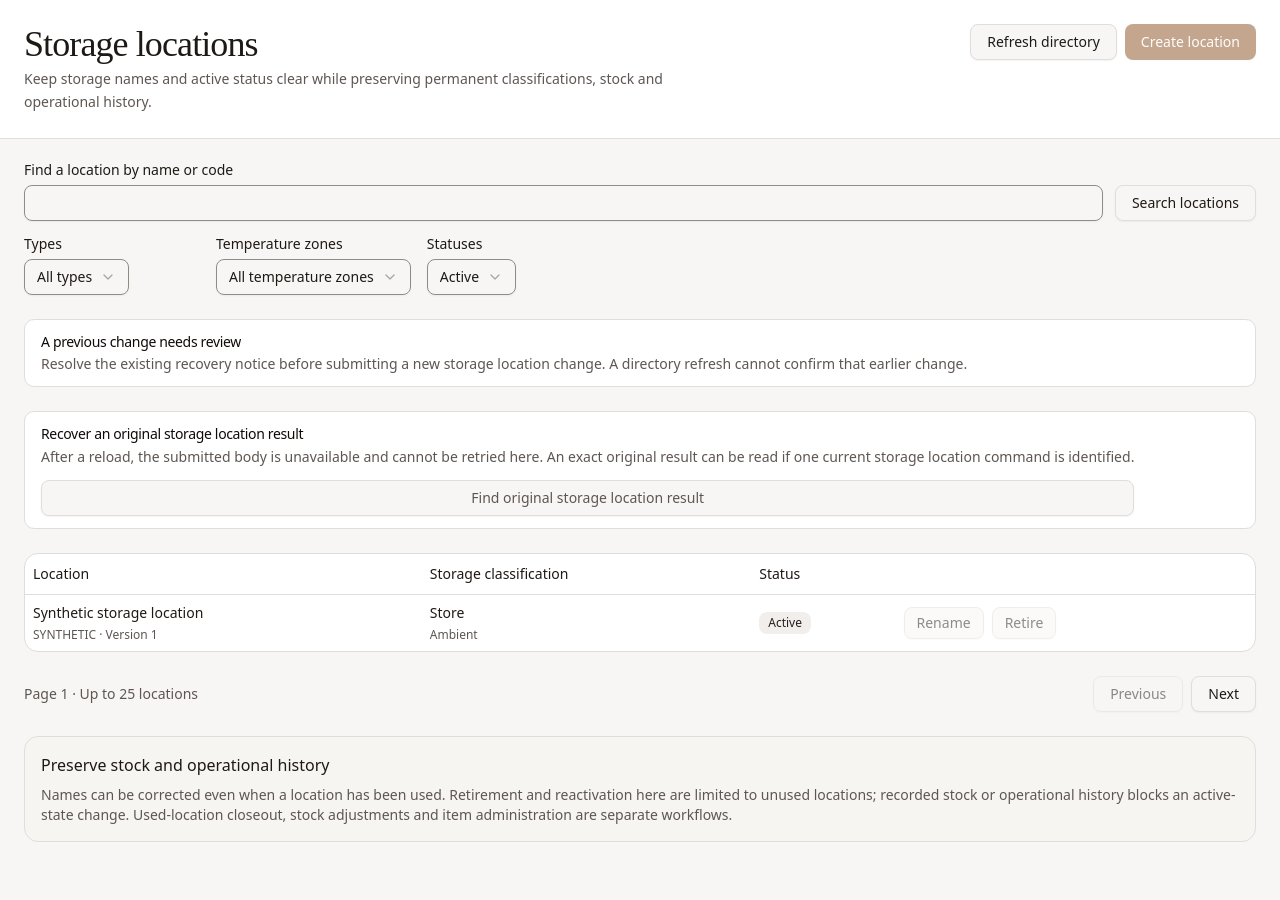
Test case: searches a bounded page and hashes the free-text query key instead of retaining raw search in cache metadata
Expected: the text "Synthetic storage location" is shown, [33,603,203,622]
Step 1. Click the button "Next" → click(1224, 694), box [1191,676,1256,712]
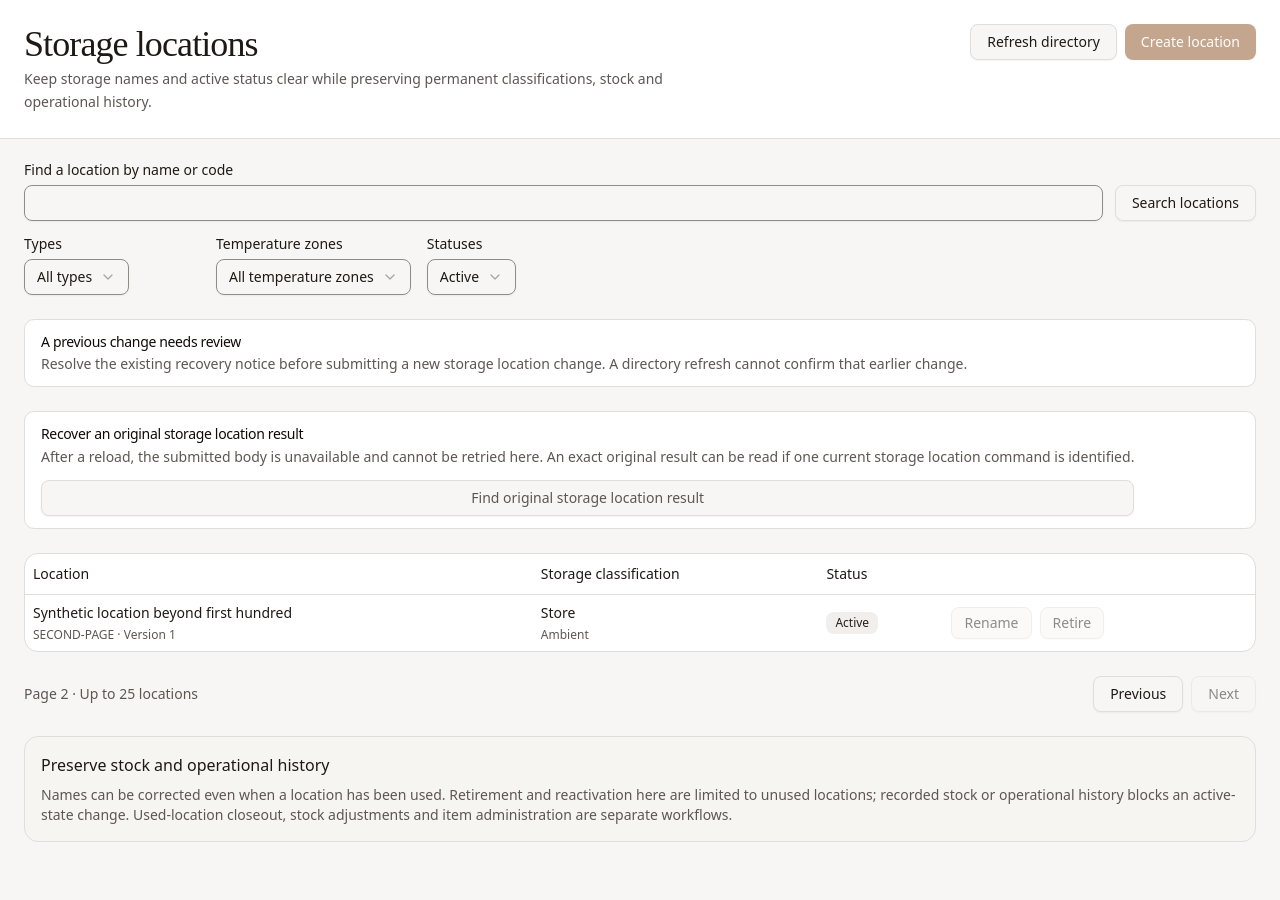
Expected: the text "Synthetic location beyond first hundred" is shown, [33,603,292,622]
Step 2. Type "Synthetic private search" into the field labelled "Find a location by name or code" → (563, 202), box [24,184,1103,220]
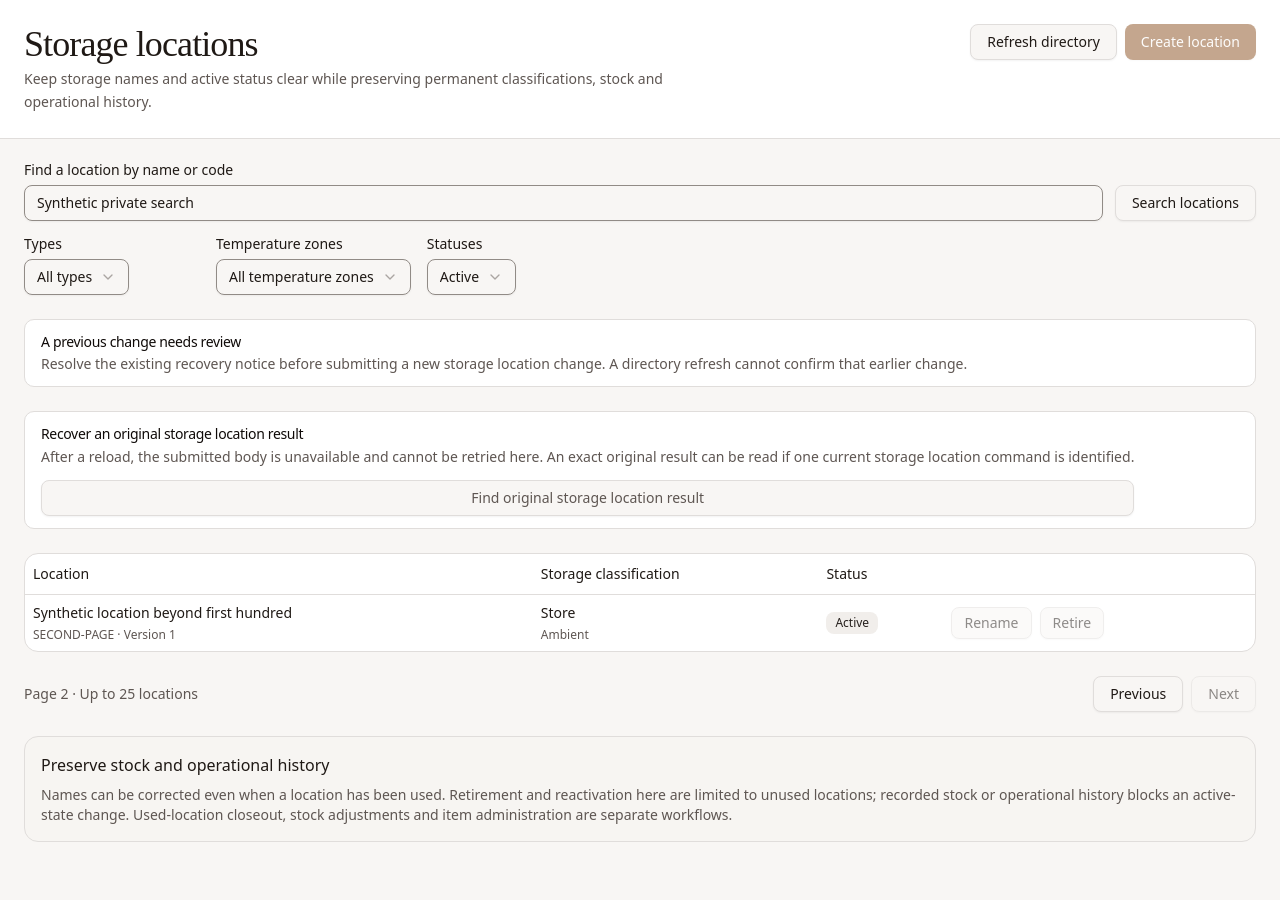
Step 3. Click the button "Search locations" → click(1185, 202), box [1115,184,1256,220]
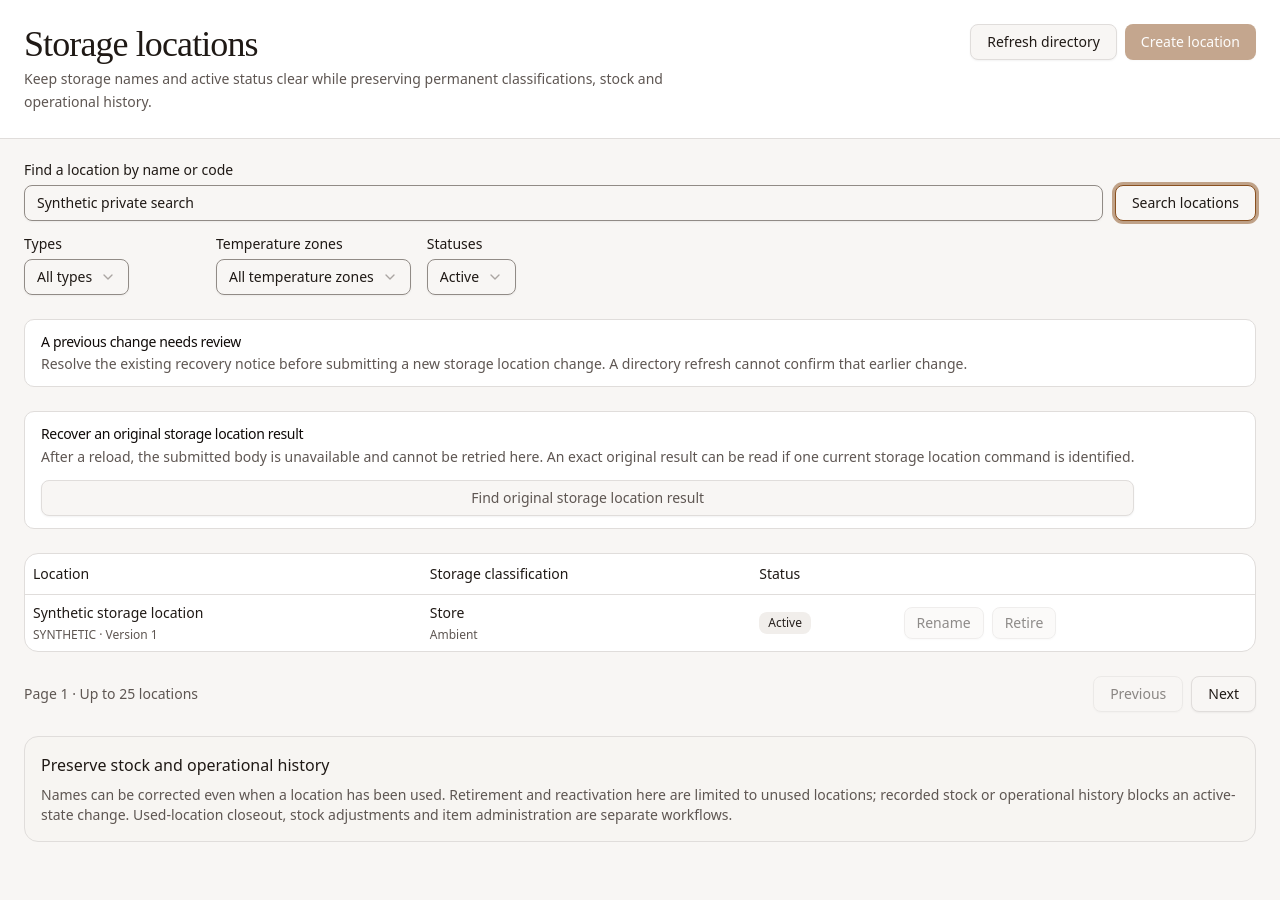
Expected: the text "Page 1 · Up to 25 locations" is shown, [24,684,198,704]
